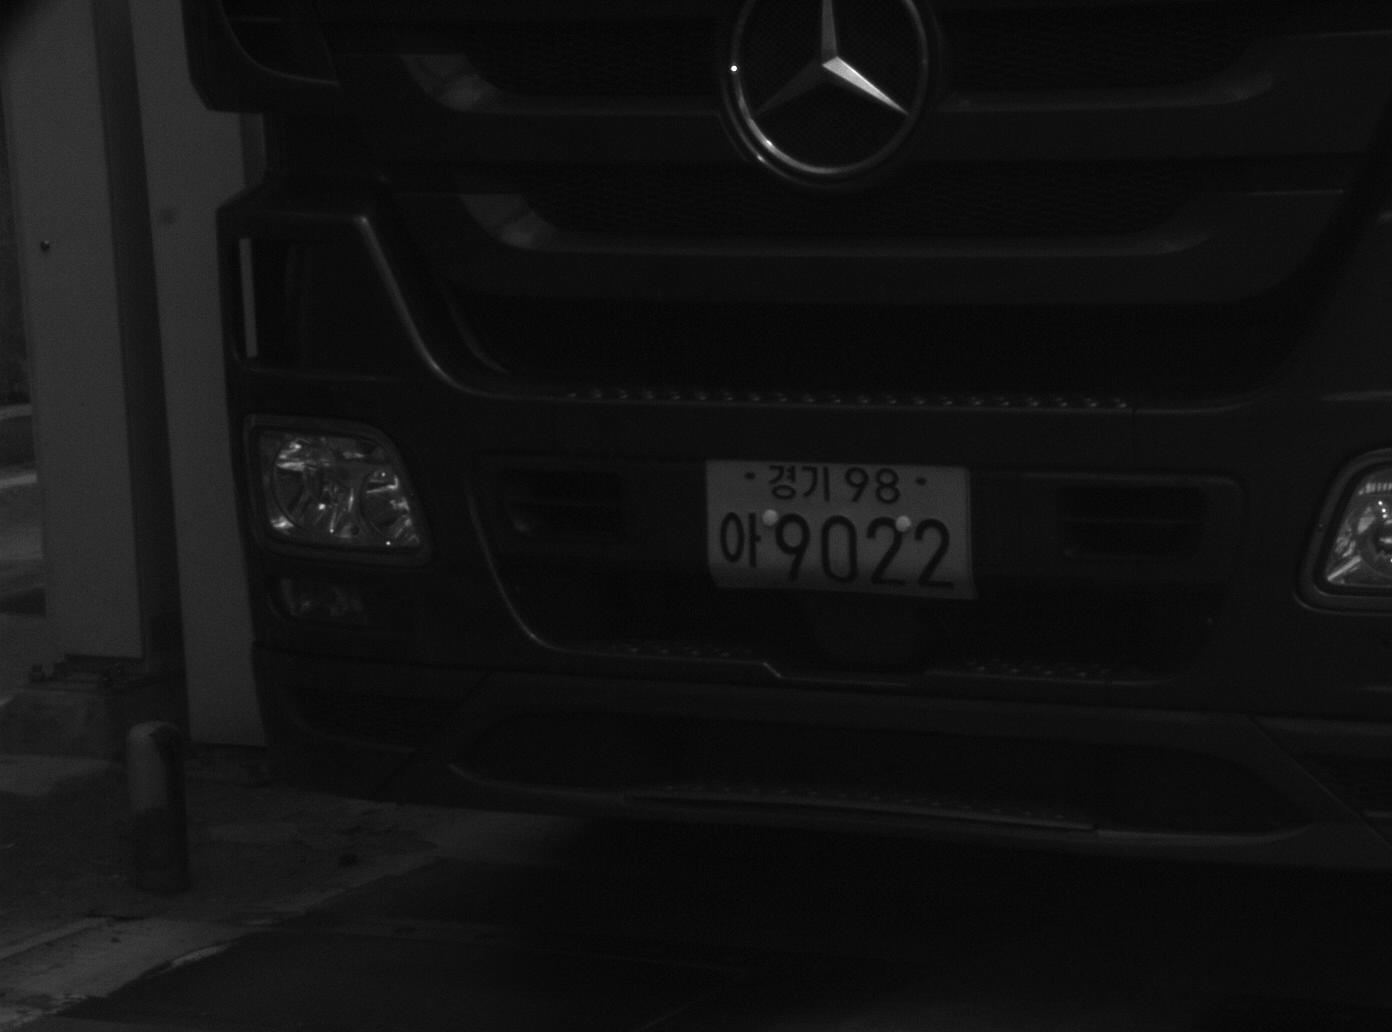car: (170, 1, 1390, 877)
plate: (700, 455, 979, 603)
